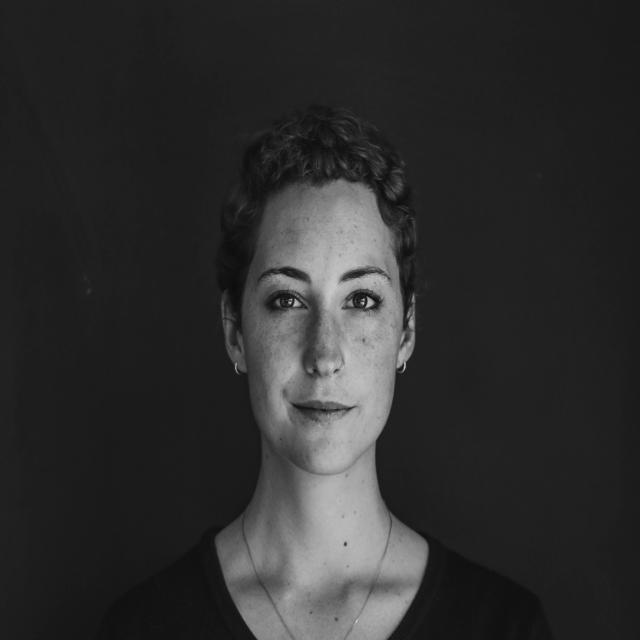adult: (108, 107, 535, 640)
